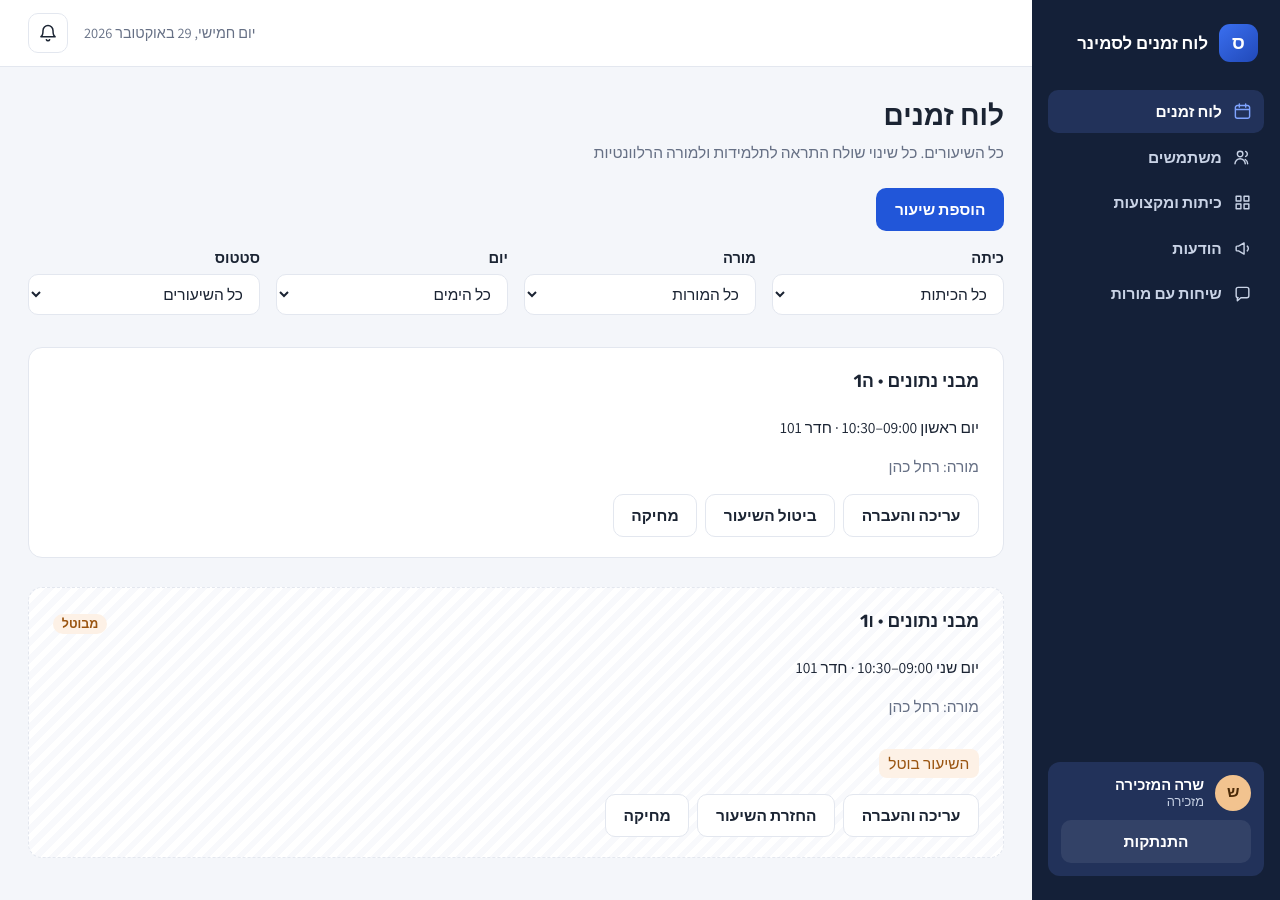
it: ניהול לוח זמנים › מחיקת שיעור דורשת אישור
Check: the heading "מבני נתונים · ה1" is shown, box [854,368,979,395]
Click the button "מחיקה" below "ה1".
click(655, 515)  # box [613,494,697,537]
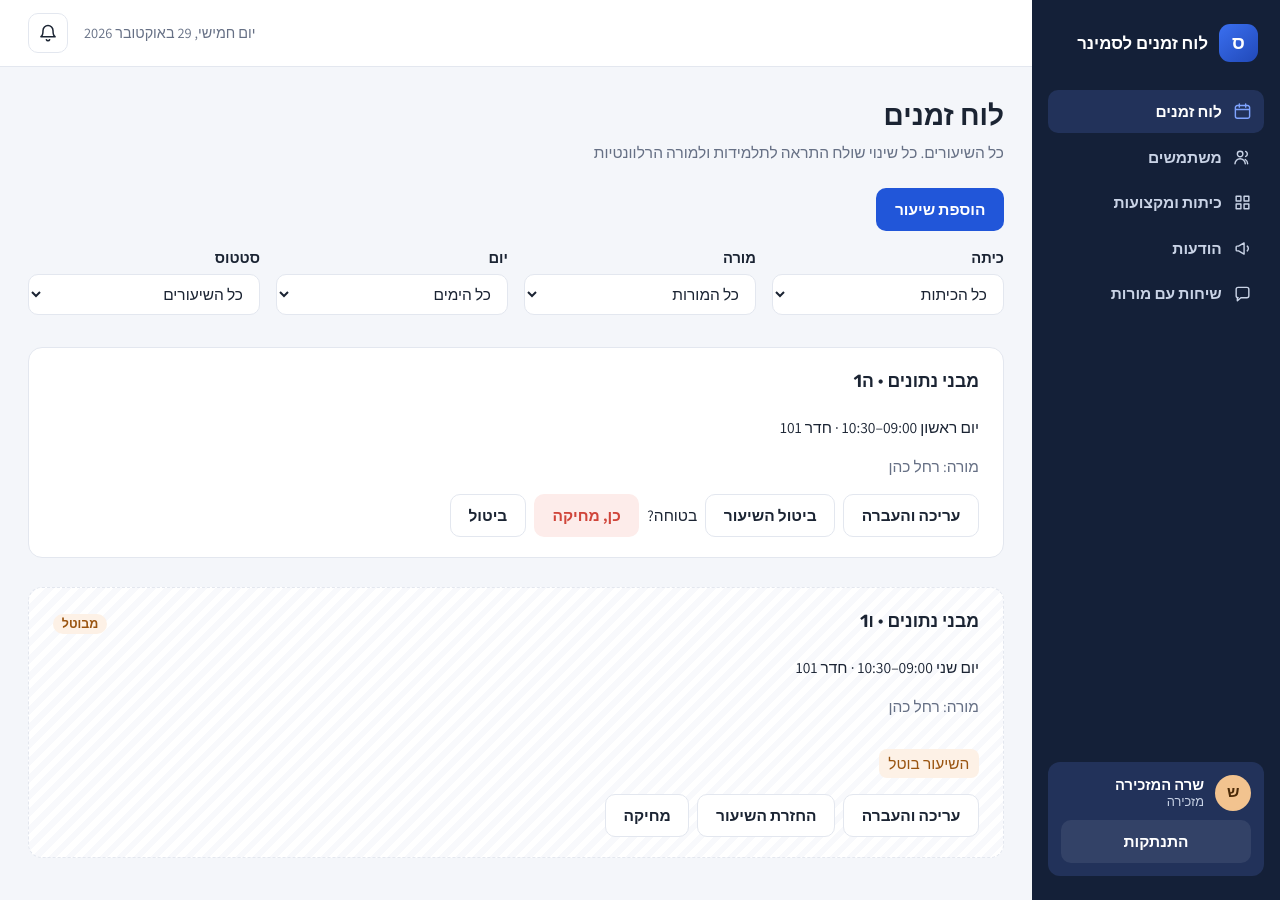
Click the button "כן, מחיקה".
click(587, 515)  # box [534,494,639,537]
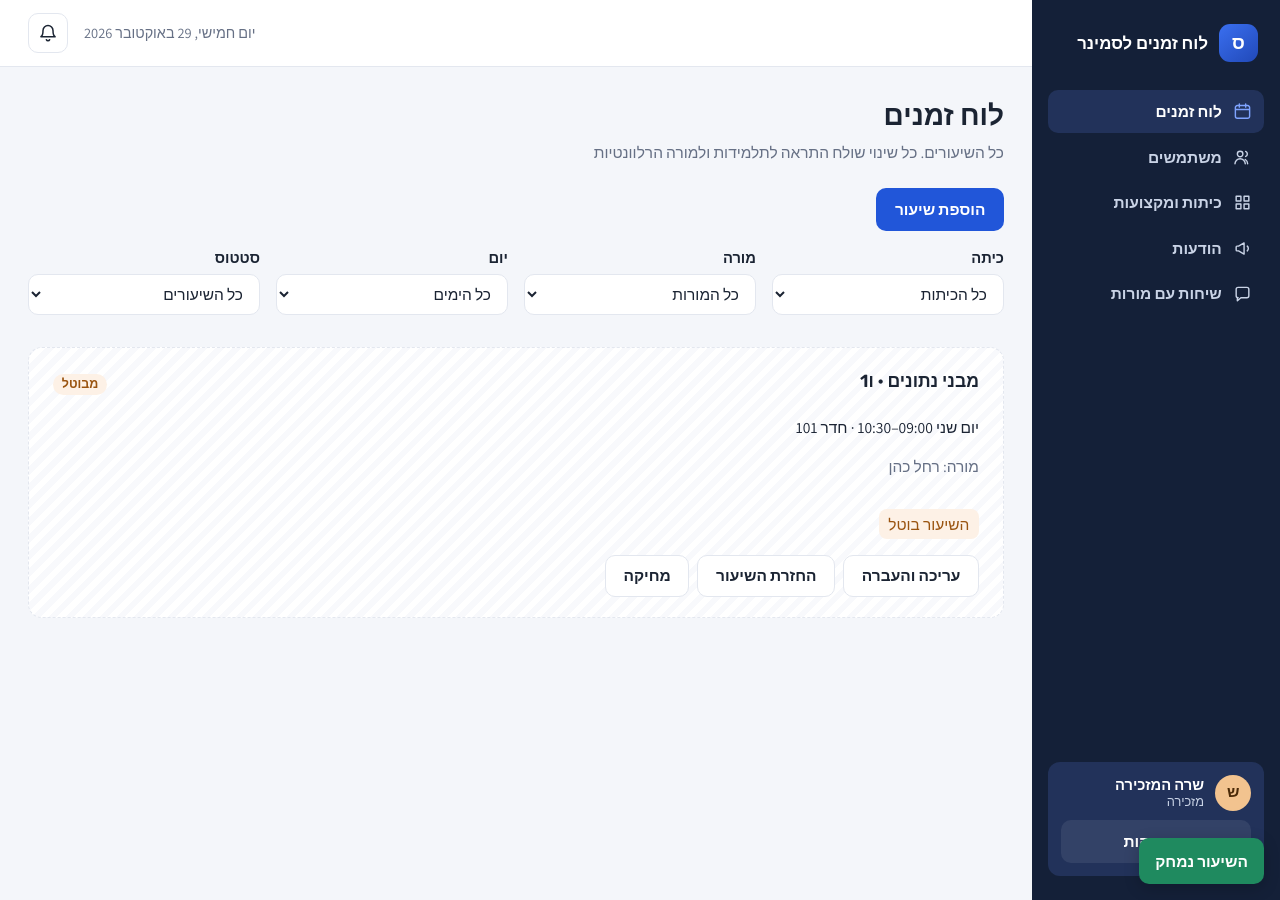
Check: the text "השיעור נמחק" is shown, box [1139,838,1264,884]
Check: the heading "מבני נתונים · ה1" is gone
